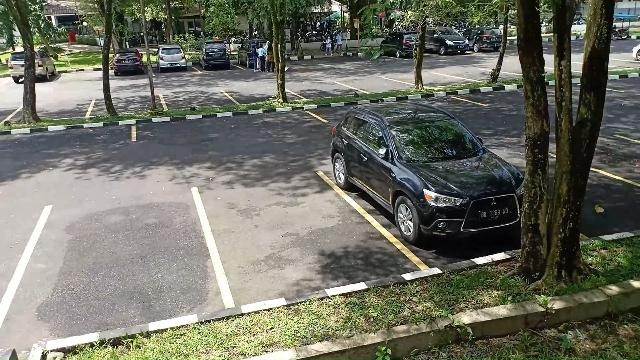empty: (17, 199, 212, 319), (206, 183, 356, 305), (132, 110, 320, 144), (9, 98, 92, 120), (162, 88, 230, 110), (90, 94, 164, 114), (286, 80, 354, 100), (342, 77, 412, 96), (230, 86, 296, 106), (402, 70, 456, 88)
occupied: (340, 138, 528, 268)
